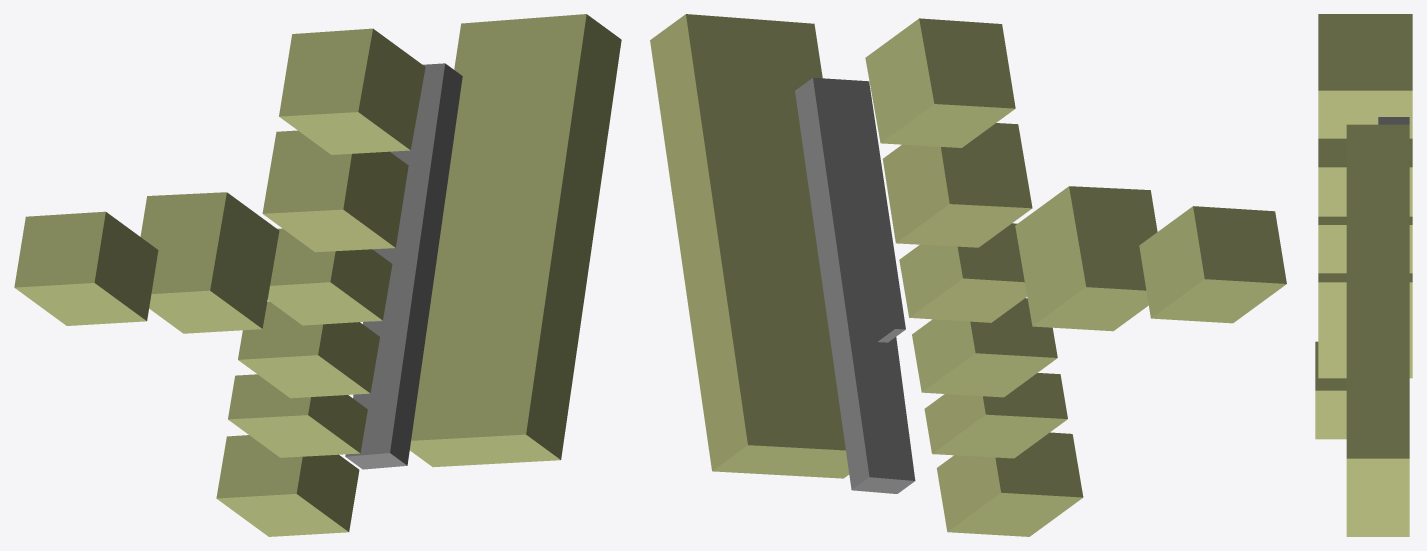
3 renders of one model, left to right at view 1: azimuth 30°, elevation 25°; view 2: azimuth 150°, elevation 25°; view 3: azimuth 270°, elevation 25°, orthographic. The views are drawn at different scales.
Parts seen in each view (by area): view 1: 0_1_0_0_1_0_2_2_2; view 2: 0_1_0_0_1_0_2_2_2; view 3: 0_1_0_0_1_0_2_2_2.
Part boxes in pixels (x1,y1,x2,y2): 0_1_0_0_1_0_2_2_2: (14, 14, 621, 536); 0_1_0_0_1_0_2_2_2: (650, 14, 1286, 536); 0_1_0_0_1_0_2_2_2: (1315, 14, 1412, 536).
Bounding box in the file's own units: 56.44 × 43.4 × 9.3.
